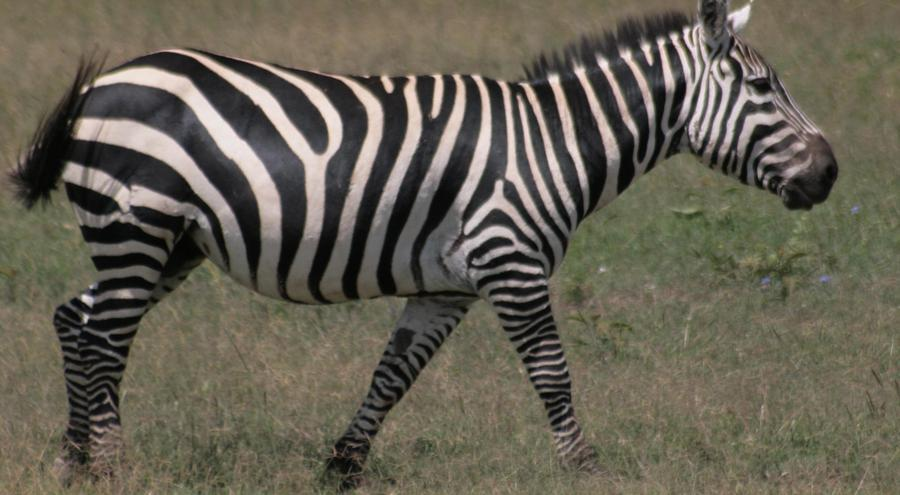zebra_plains: (71, 52, 589, 287)
